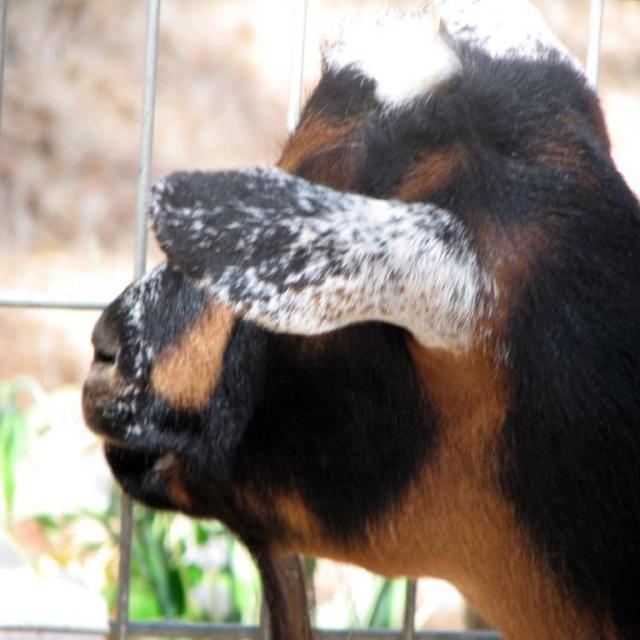Goat: (84, 0, 639, 639)
